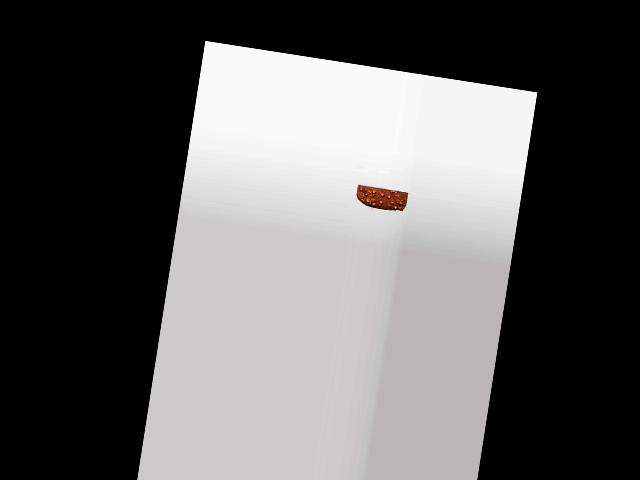chocolate: (354, 182, 408, 216)
